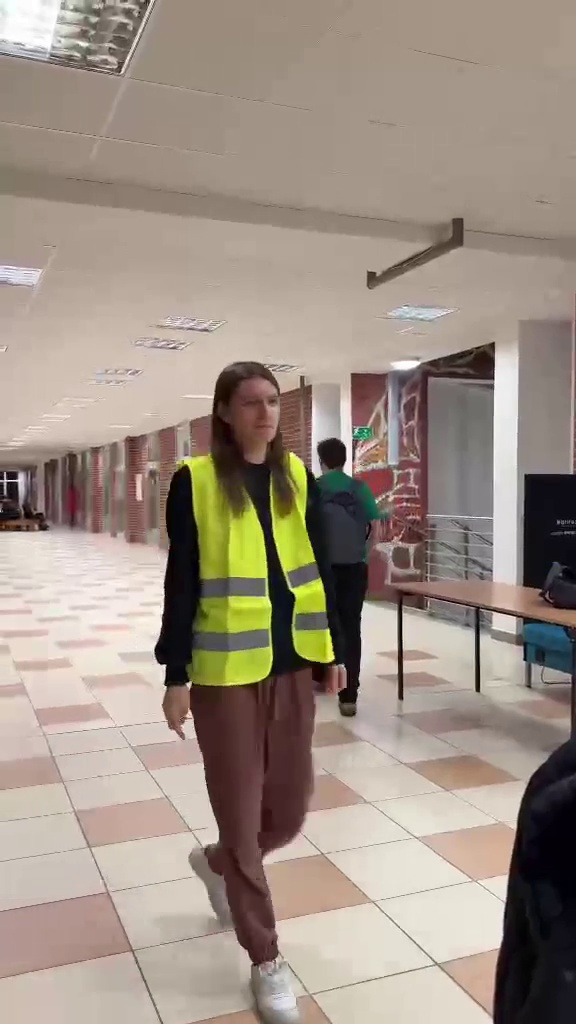no vest: (312, 430, 386, 711)
vest: (178, 348, 312, 983)
